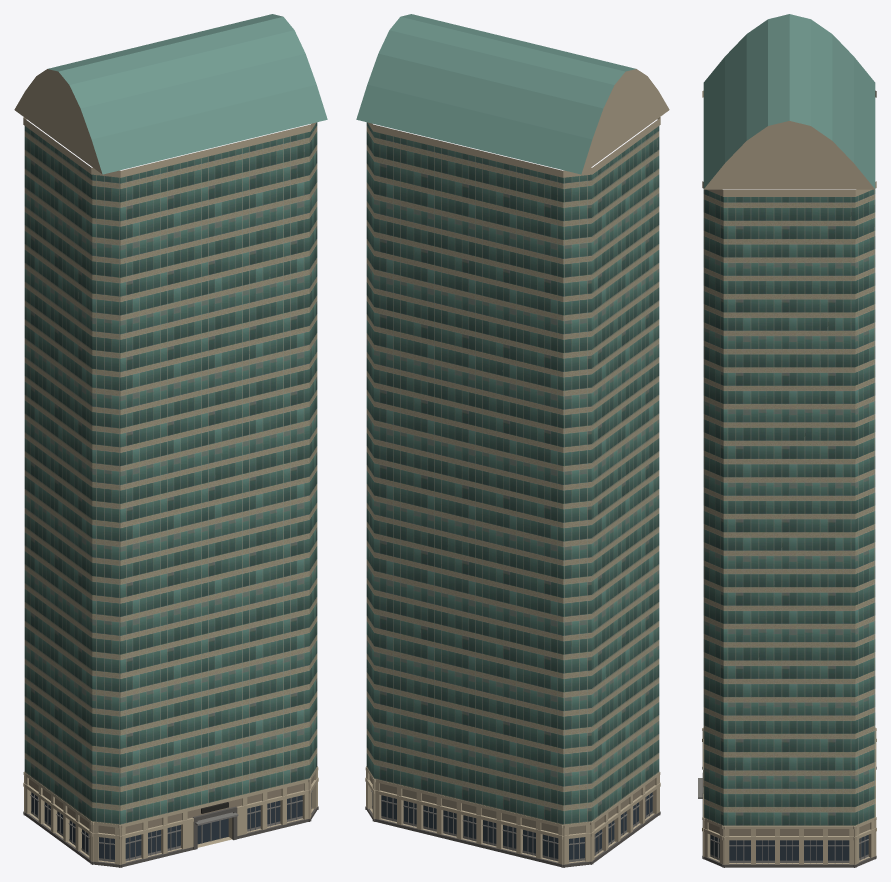
Rendered from fourth_and_madison.glb.
3 views of the same model, side by side, from view 1: azimuth 30°, elevation 25°; view 2: azimuth 150°, elevation 25°; view 3: azimuth 270°, elevation 25° (orthographic). The views are drawn at different scales.
Parts seen in each view (by area): view 1: fourth_and_madison; view 2: fourth_and_madison; view 3: fourth_and_madison.
Part boxes in pixels (x1,y1,x2,y2): fourth_and_madison: (14, 14, 327, 867); fourth_and_madison: (356, 14, 669, 867); fourth_and_madison: (698, 14, 876, 867).
Size of the model in its own units: 50.63 by 163 by 35.4.
Materials: 2 (2 with a texture image).
